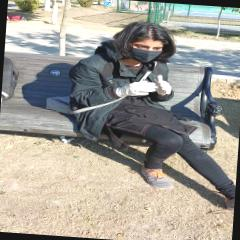gloved: (116, 80, 156, 100), (153, 74, 171, 96)
